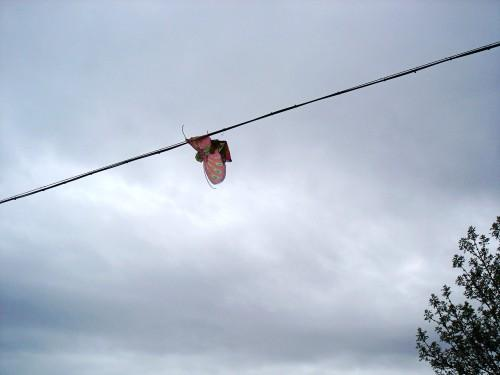kite: (178, 124, 237, 186)
